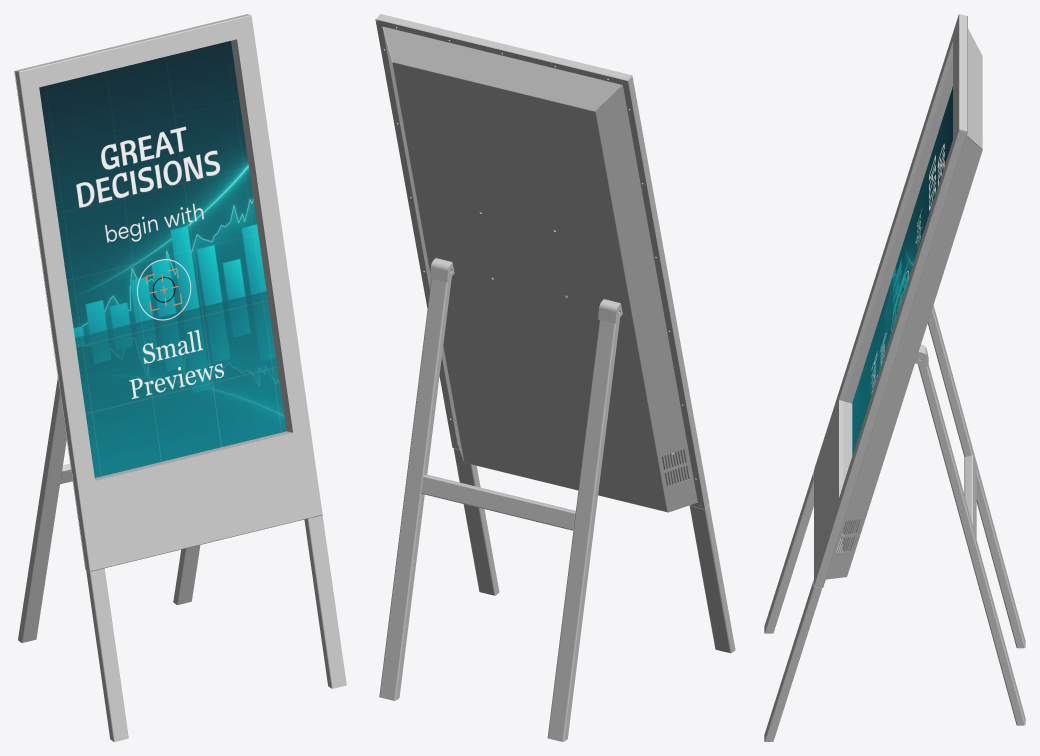
The picture shows the model from 3 angles, left to right: view 1: azimuth 30°, elevation 25°; view 2: azimuth 150°, elevation 25°; view 3: azimuth 270°, elevation 25°; orthographic projection. The views are drawn at different scales.
Parts seen in each view (by area): view 1: 43 Easel - Assy.001, 43 Easel - Assy; view 2: 43 Easel - Assy; view 3: 43 Easel - Assy, 43 Easel - Assy.001.
Boxes of the visible parts, bbox=[...] form: 43 Easel - Assy.001: bbox=[39, 41, 286, 477]; 43 Easel - Assy: bbox=[14, 14, 346, 741]; 43 Easel - Assy: bbox=[375, 14, 735, 741]; 43 Easel - Assy: bbox=[764, 14, 1025, 741]; 43 Easel - Assy.001: bbox=[852, 86, 952, 455].
Bounding box in the file's own units: 0.6154 × 1.51 × 0.5856.
3 materials, 1 textured.
